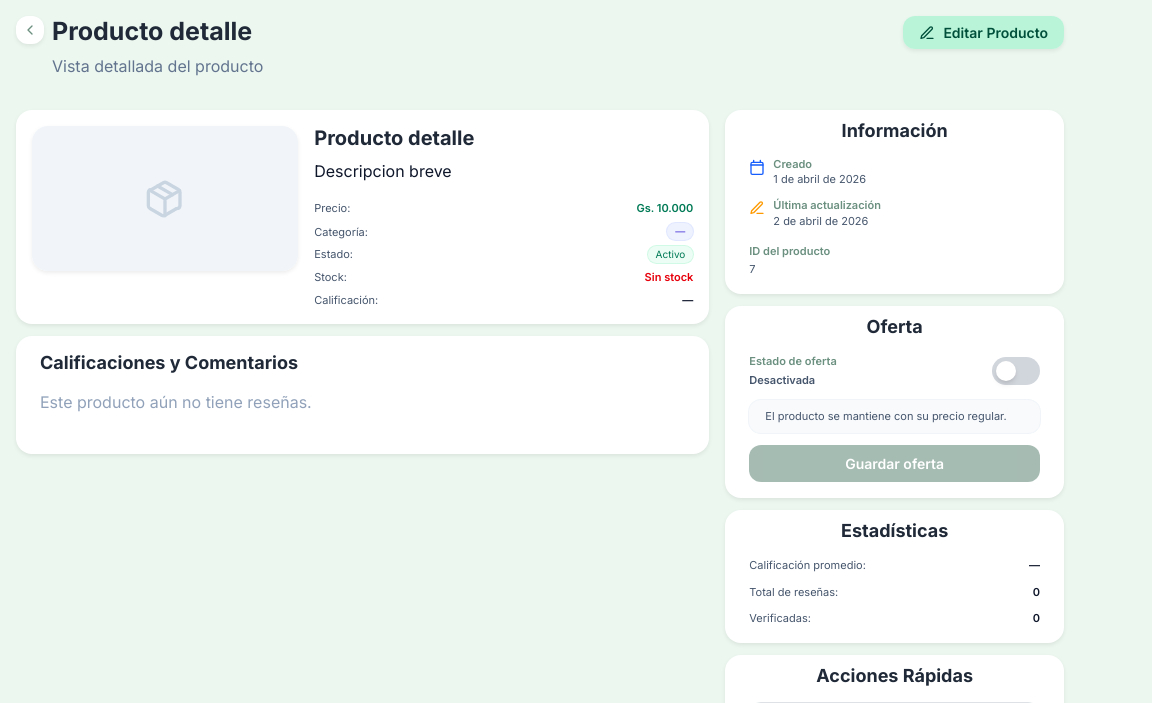
Test: ProductDetailView › muestra el campo de precio de oferta al activar la oferta
Click the switch named "activar oferta" at (1016, 371), box 992,357 -> 1040,385
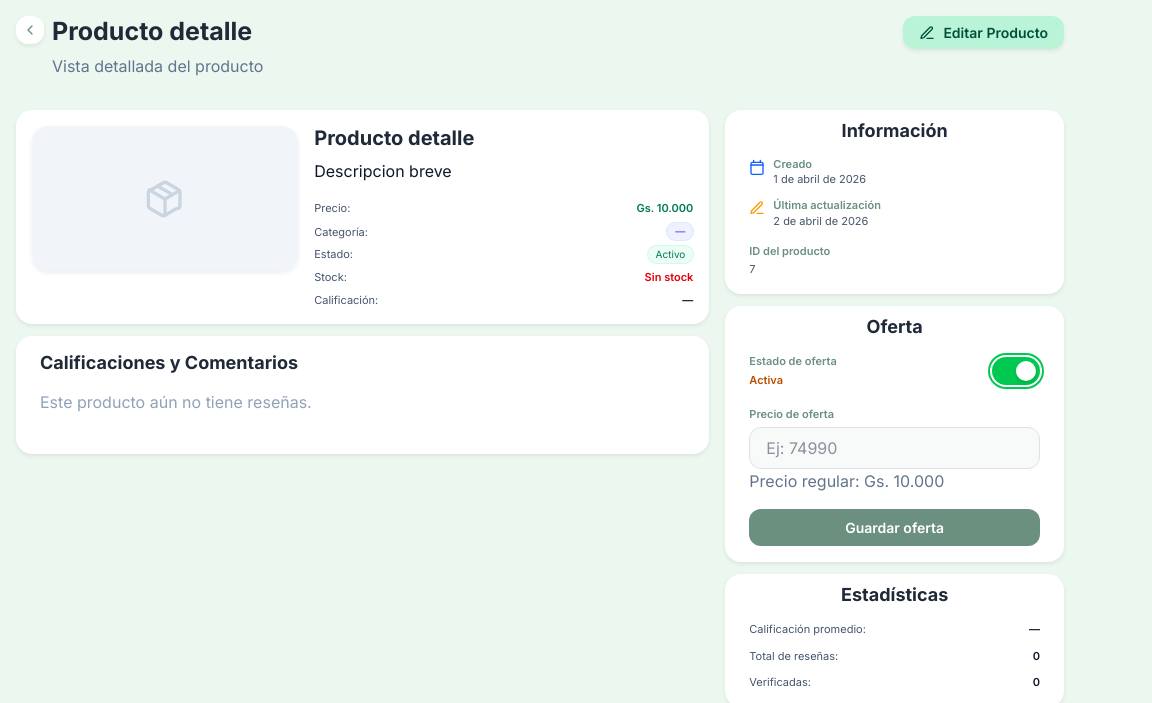
Check: the number field labelled "Precio de oferta" is shown, box 749,427 -> 1040,469
